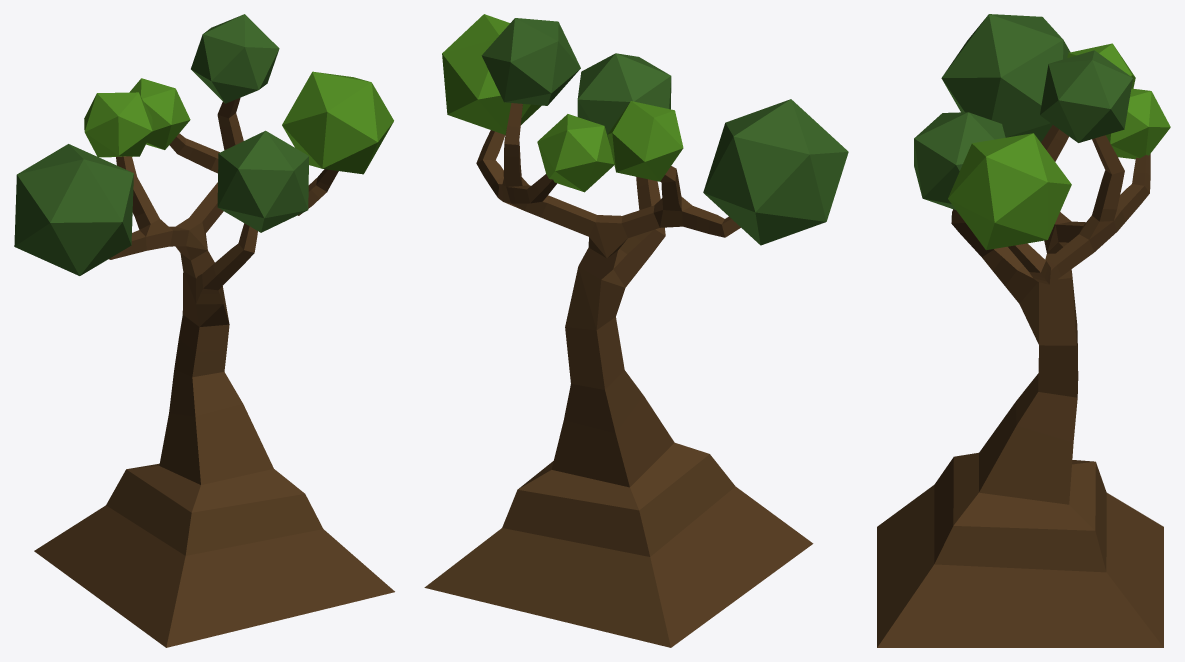
Rendered from tree3.fbx.
3 views of the same model, side by side, from view 1: azimuth 30°, elevation 25°; view 2: azimuth 150°, elevation 25°; view 3: azimuth 270°, elevation 25° (orthographic). The views are drawn at different scales.
Parts seen in each view (by area): view 1: Cube, Icosphere.004, Icosphere, Icosphere.005, Icosphere.001, Icosphere.003, Icosphere.002; view 2: Cube, Icosphere.004, Icosphere.001, Icosphere, Icosphere.005, Icosphere.003, Icosphere.002; view 3: Cube, Icosphere.004, Icosphere, Icosphere.001, Icosphere.005, Icosphere.002, Icosphere.003.
Boxes of the visible parts, x1=… form: Cube: x1=34, y1=97, x2=394, y2=647; Icosphere.004: x1=14, y1=144, x2=133, y2=275; Icosphere: x1=282, y1=71, x2=393, y2=174; Icosphere.005: x1=217, y1=130, x2=308, y2=232; Icosphere.001: x1=191, y1=14, x2=279, y2=103; Icosphere.003: x1=84, y1=92, x2=152, y2=157; Icosphere.002: x1=129, y1=78, x2=190, y2=149; Cube: x1=424, y1=103, x2=813, y2=647; Icosphere.004: x1=703, y1=99, x2=848, y2=245; Icosphere.001: x1=481, y1=18, x2=580, y2=105; Icosphere: x1=442, y1=14, x2=541, y2=134; Icosphere.005: x1=577, y1=53, x2=671, y2=142; Icosphere.003: x1=607, y1=101, x2=683, y2=181; Icosphere.002: x1=537, y1=114, x2=614, y2=192; Cube: x1=877, y1=125, x2=1163, y2=647; Icosphere.004: x1=941, y1=14, x2=1070, y2=142; Icosphere: x1=948, y1=133, x2=1071, y2=250; Icosphere.001: x1=1040, y1=50, x2=1132, y2=142; Icosphere.005: x1=914, y1=112, x2=1005, y2=209; Icosphere.002: x1=1106, y1=88, x2=1170, y2=159; Icosphere.003: x1=1067, y1=43, x2=1135, y2=88.
Size of the model in its own units: 7.59 by 10.31 by 4.9.
